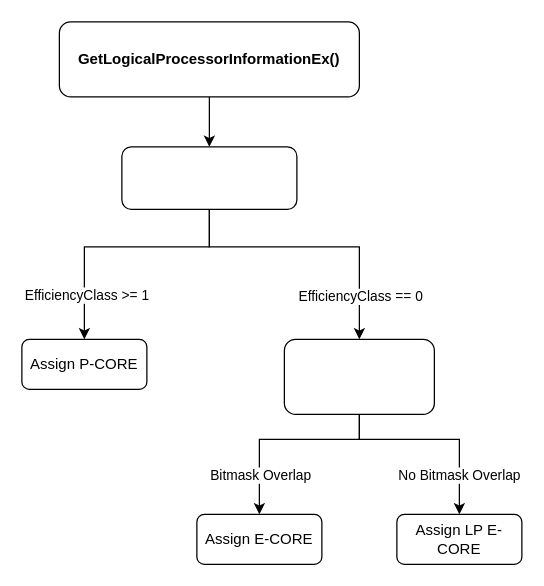
This 544x586 diagram has some shape labels left out. The centre of each missing label's shape, as x and y in pixels:
Check Core Mask against Shared L3 Bitmask: the point at 358,376
Construct Shared L3 Bitmask: the point at 209,177
